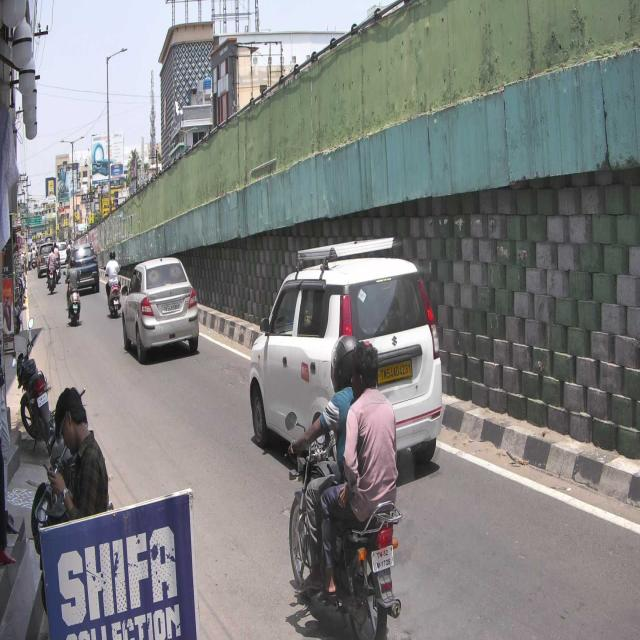double_rider: (284, 333, 402, 640)
